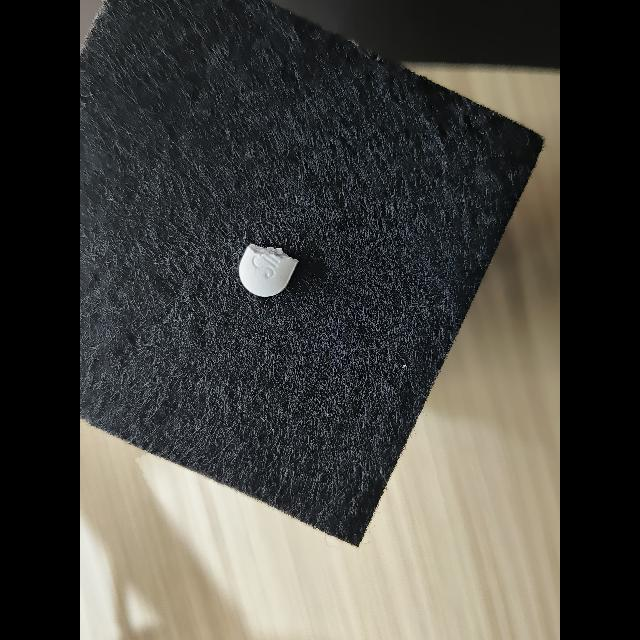Chipped Pill: (239, 243, 299, 297)
